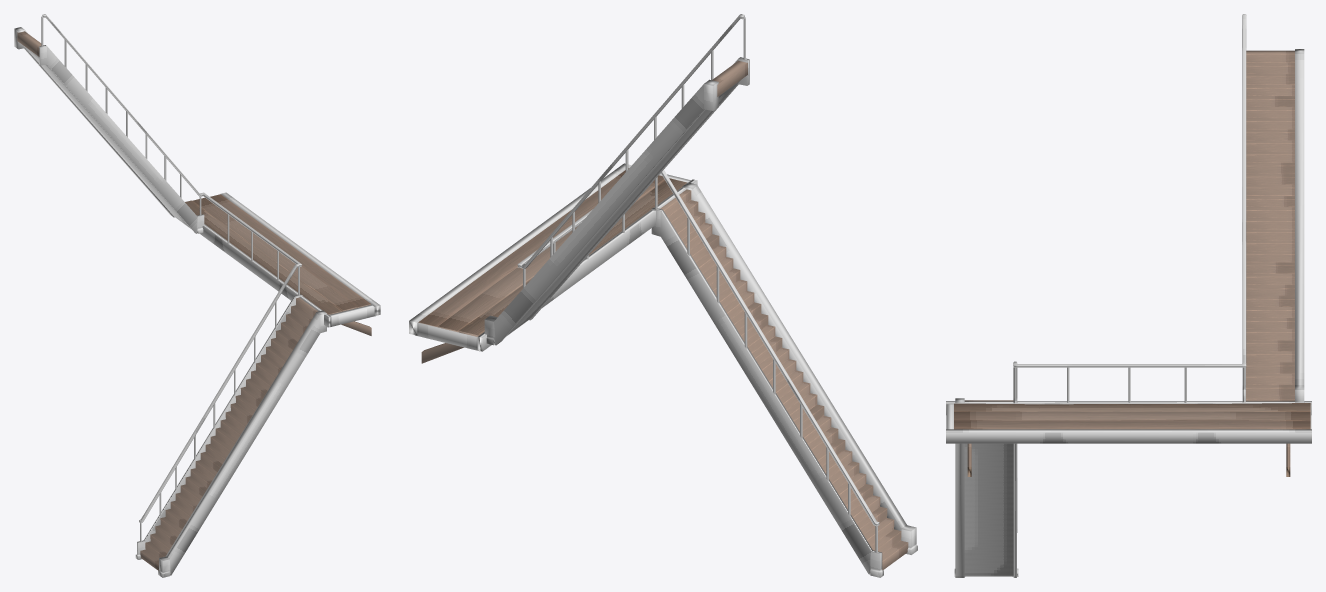
The model's file is SM_StairsCombinedFront.fbx.
The picture shows the model from 3 angles, left to right: view 1: azimuth 30°, elevation 25°; view 2: azimuth 150°, elevation 25°; view 3: azimuth 270°, elevation 25°; orthographic projection. The views are drawn at different scales.
Parts seen in each view (by area): view 1: SM_StairsCombinedFront; view 2: SM_StairsCombinedFront; view 3: SM_StairsCombinedFront.
Boxes of the visible parts, left/top/right/bottom form: SM_StairsCombinedFront: left=14, top=14, right=380, bottom=577; SM_StairsCombinedFront: left=409, top=14, right=917, bottom=577; SM_StairsCombinedFront: left=946, top=14, right=1311, bottom=577.
Size of the model in its own units: 813 by 1010 by 1708.
